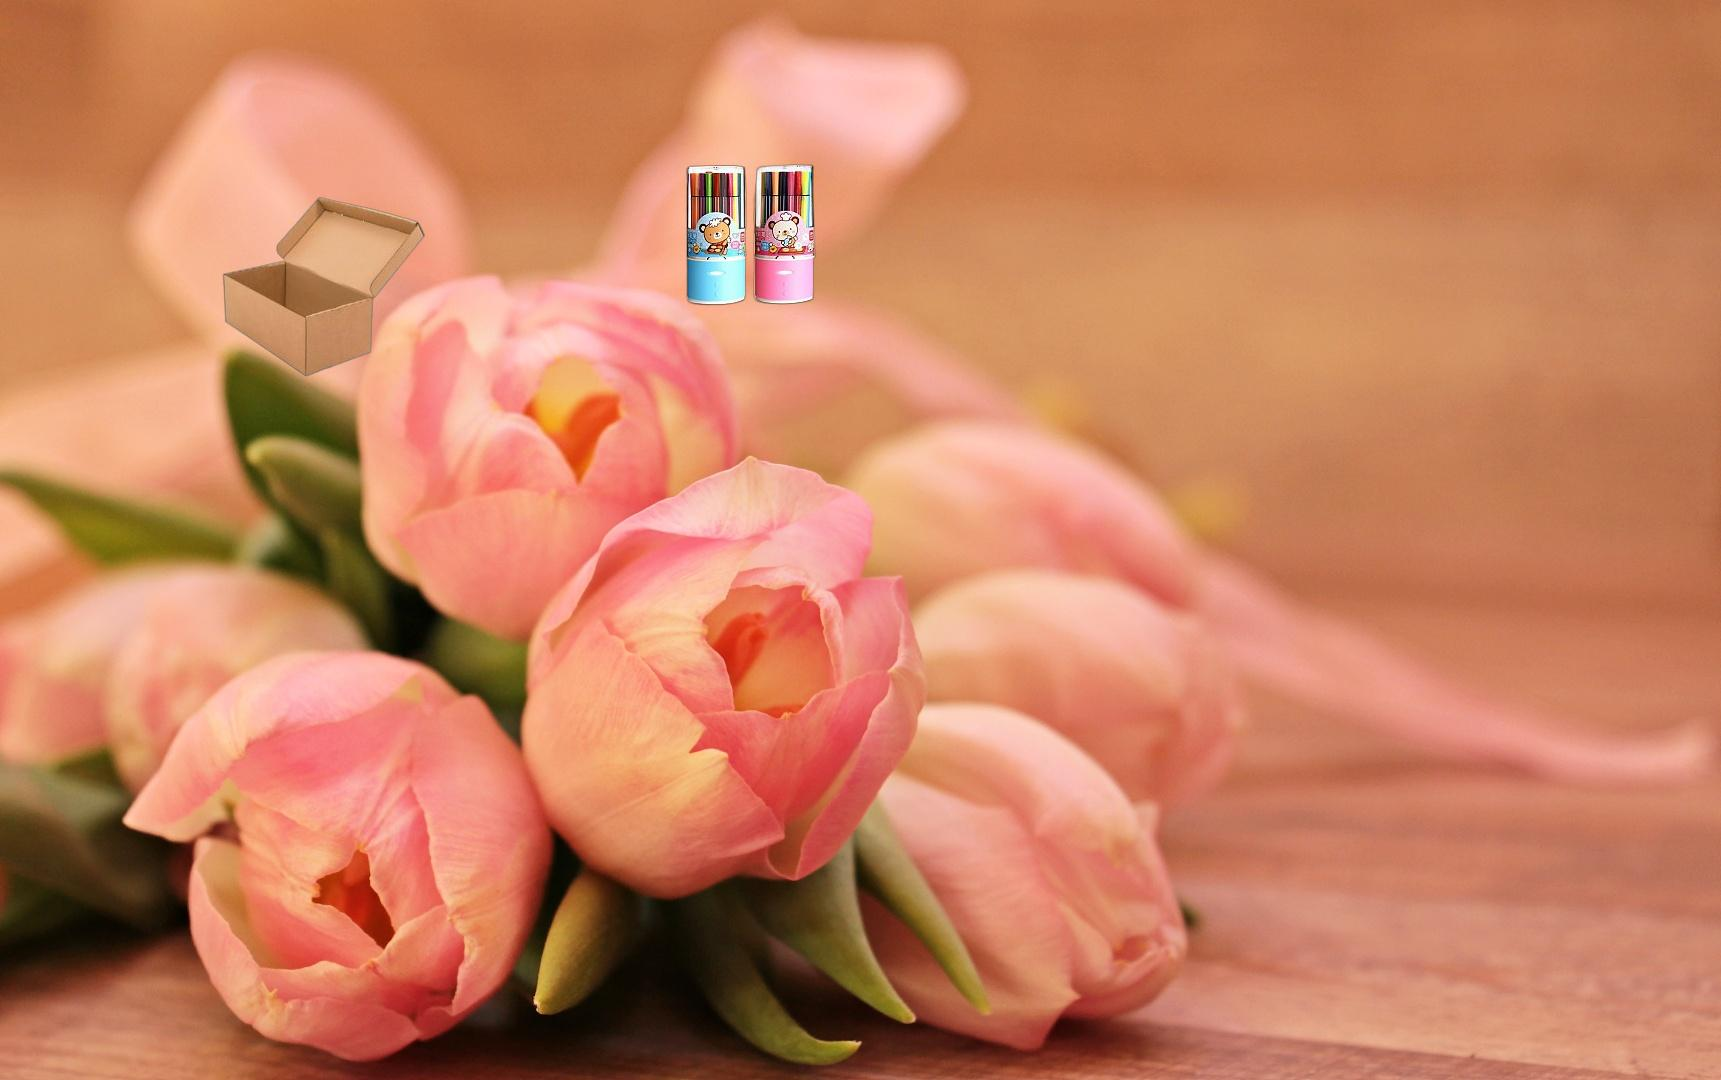penholder: (684, 162, 818, 309)
trashbox-cardboard: (220, 195, 427, 379)
